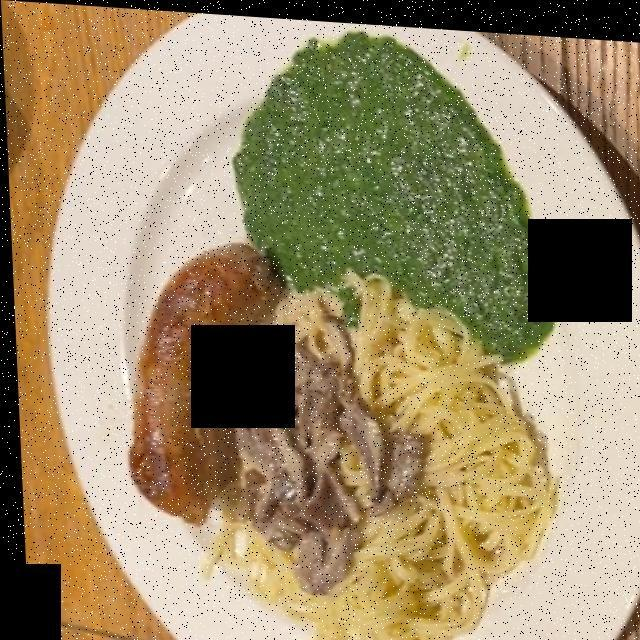cream-spinach: (228, 33, 541, 351)
pasta: (217, 278, 533, 631)
sauce: (211, 317, 443, 586)
sausage: (112, 245, 277, 529)
